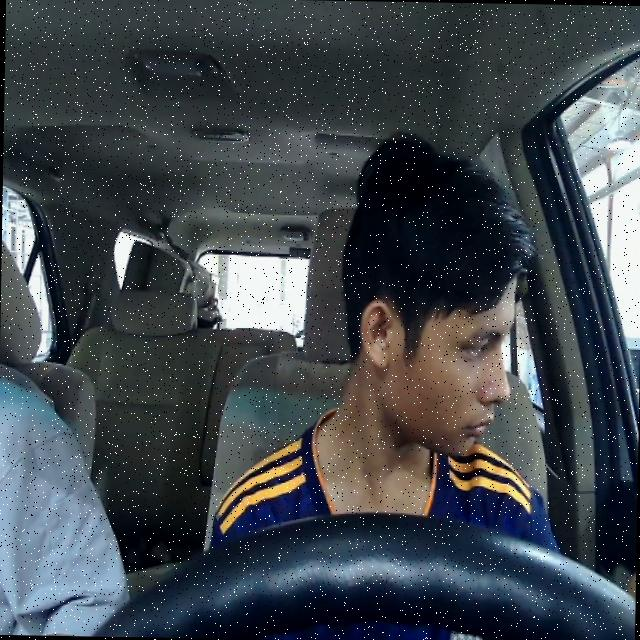seeing_right: (356, 263, 515, 457)
